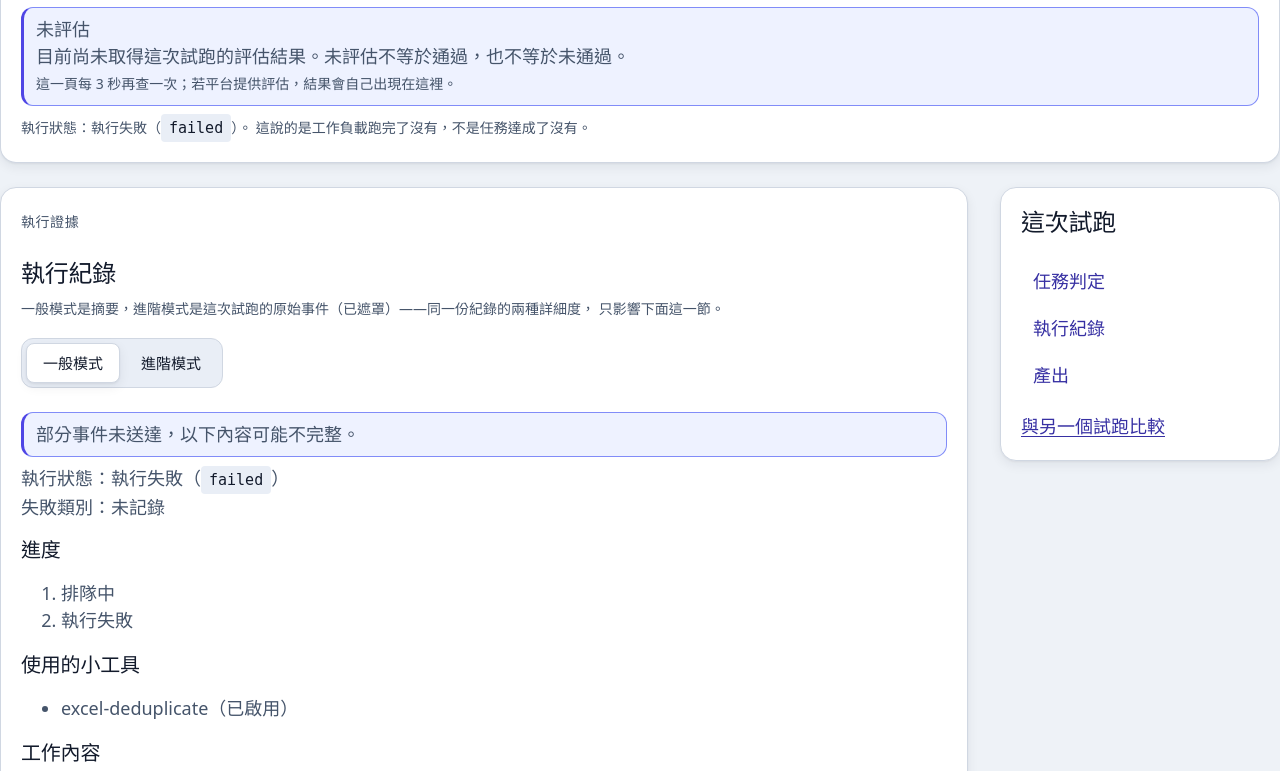
it: the advanced mode says the raw cost in a payload is a floor, not the bill
(page scrolled)
Click the button "進階模式".
click(171, 363)  # box [124, 343, 218, 383]
(page scrolled)
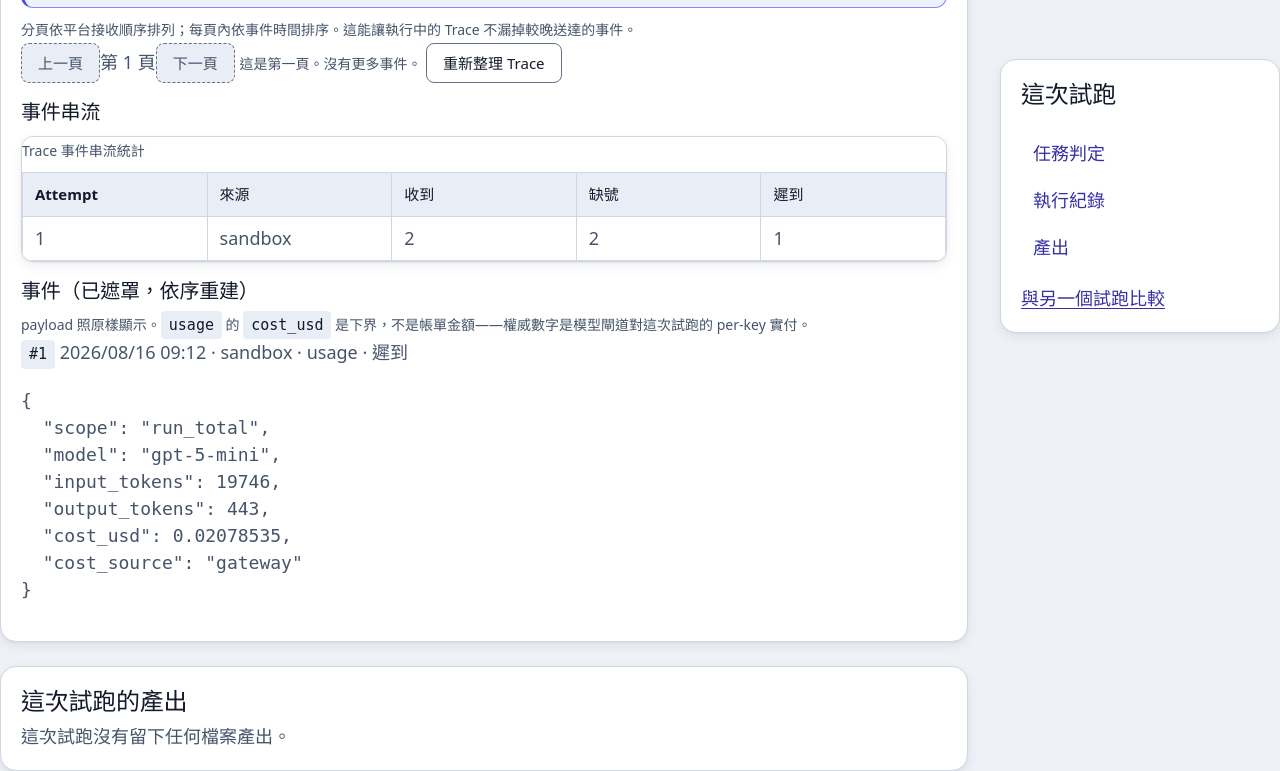
Check: the text "下界" is shown, box [349, 315, 377, 334]
Check: the text "0.02078535" is shown, box [21, 390, 303, 600]
